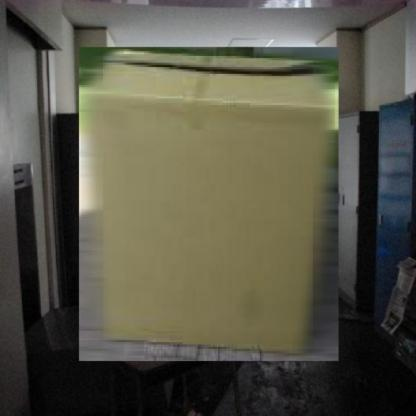box: (75, 42, 342, 367)
